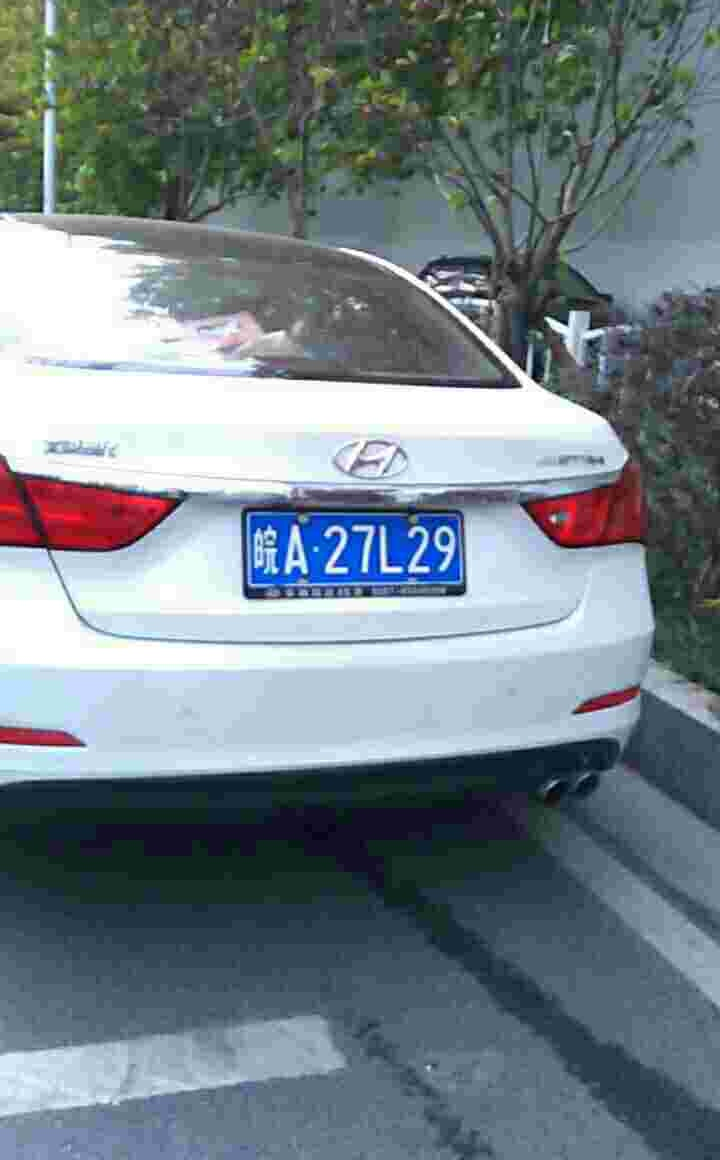license_plate: (251, 509, 472, 598)
